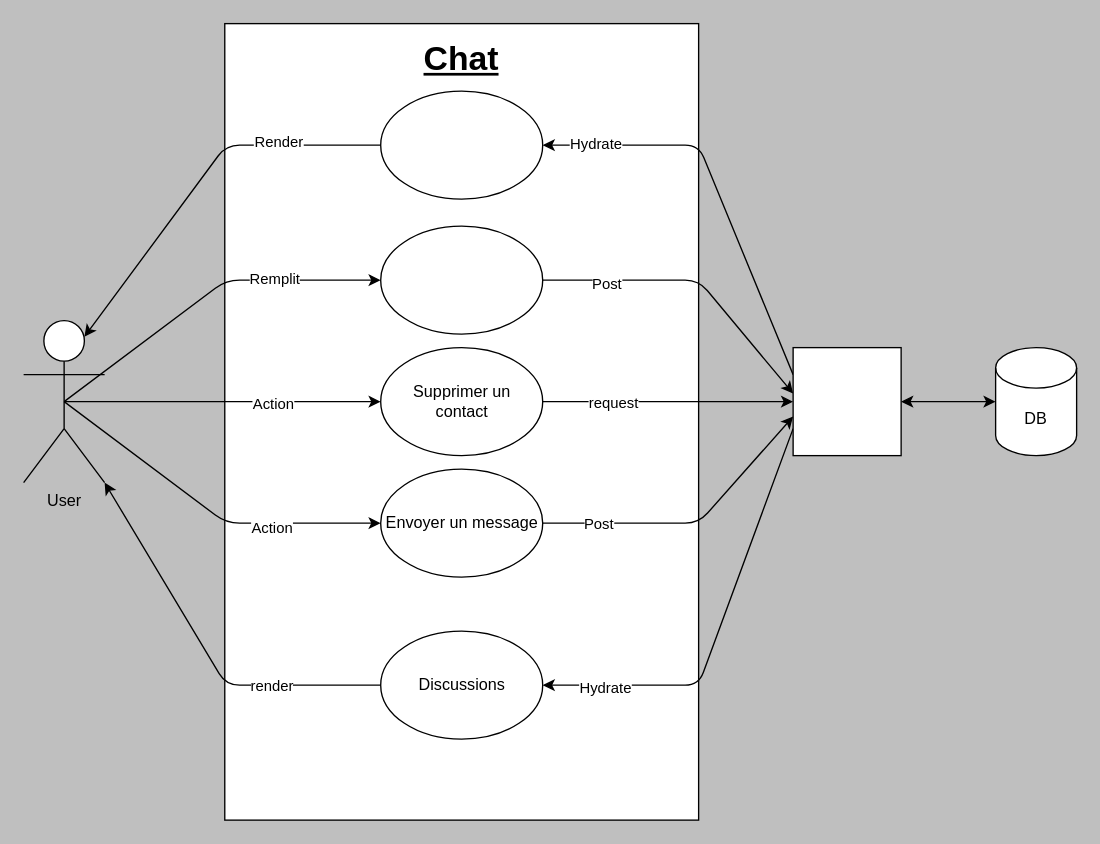
Image size: 1100x844. Some labels were removed from this diagram. The shapes that lost their labels are listed below. From the top down, each one's centre as x and y in pixels, then its label:
At (x=461, y=144): "Lister les contacts".
At (x=461, y=279): "Ajouter un contact".
At (x=846, y=401): "Back".
